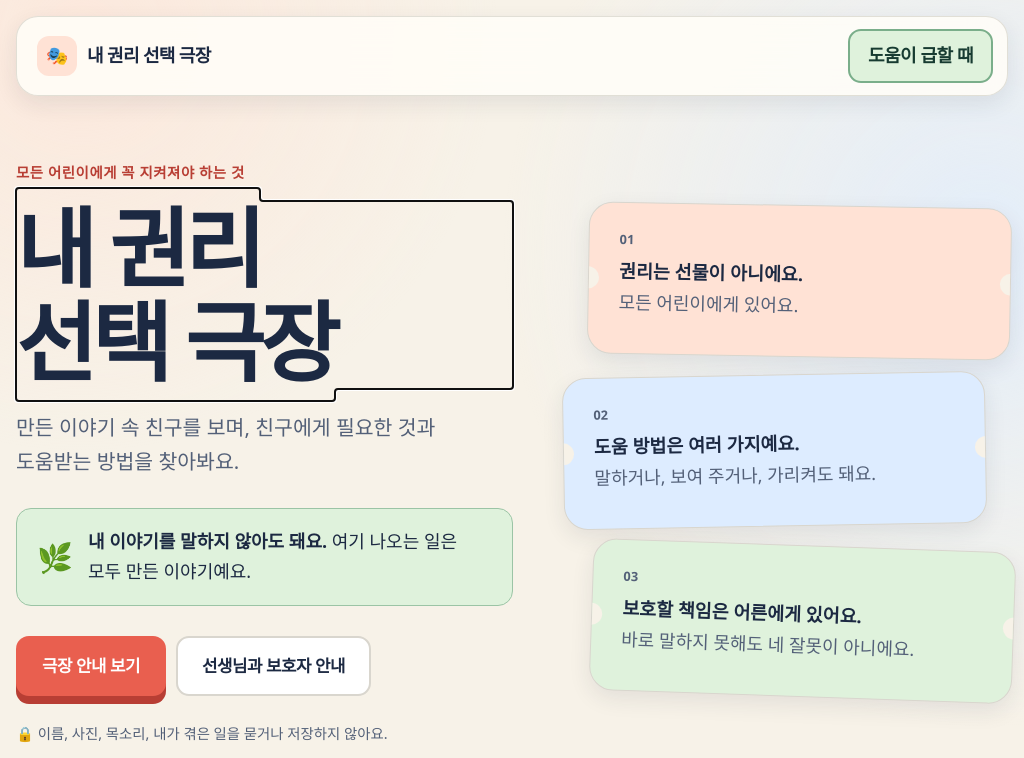
it: 내 권리 선택 극장 흐름 › 장면과 연결된 권리 카드 3개와 세부 진행 단계를 보여 준다
Click the button "극장 안내 보기": (91, 666) 16,636 -> 166,696
(page scrolled)
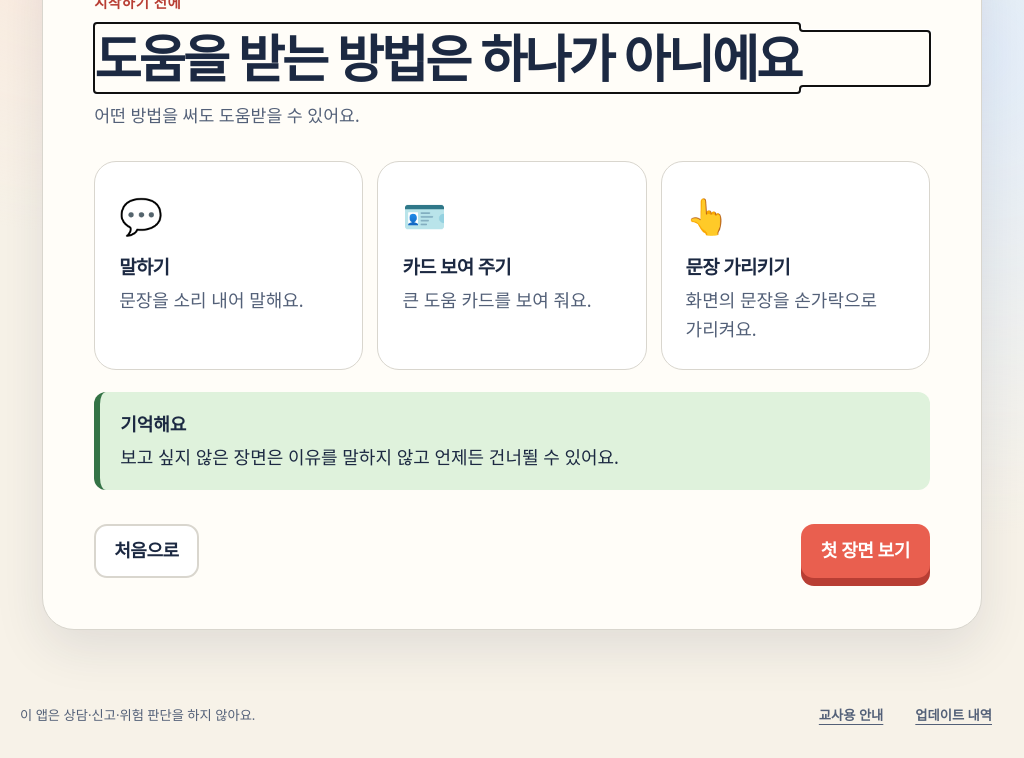
Click the button "첫 장면 보기": (865, 551) 801,524 -> 930,578
(page scrolled)
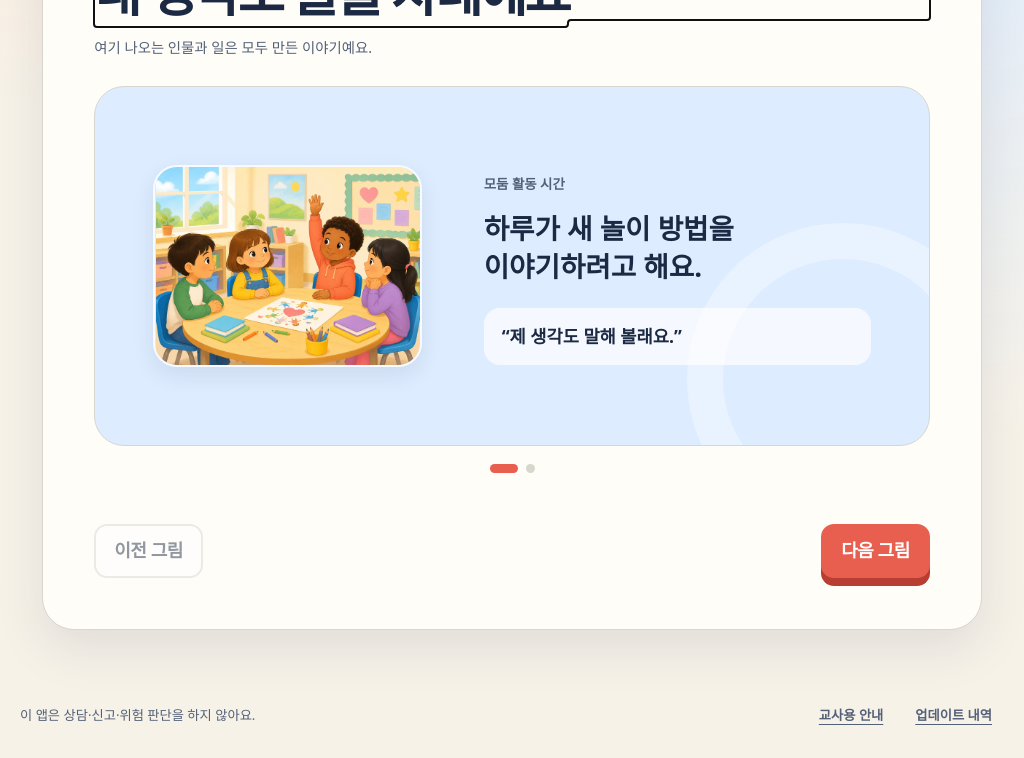
Click the button "다음 그림": (875, 551) 821,524 -> 930,578
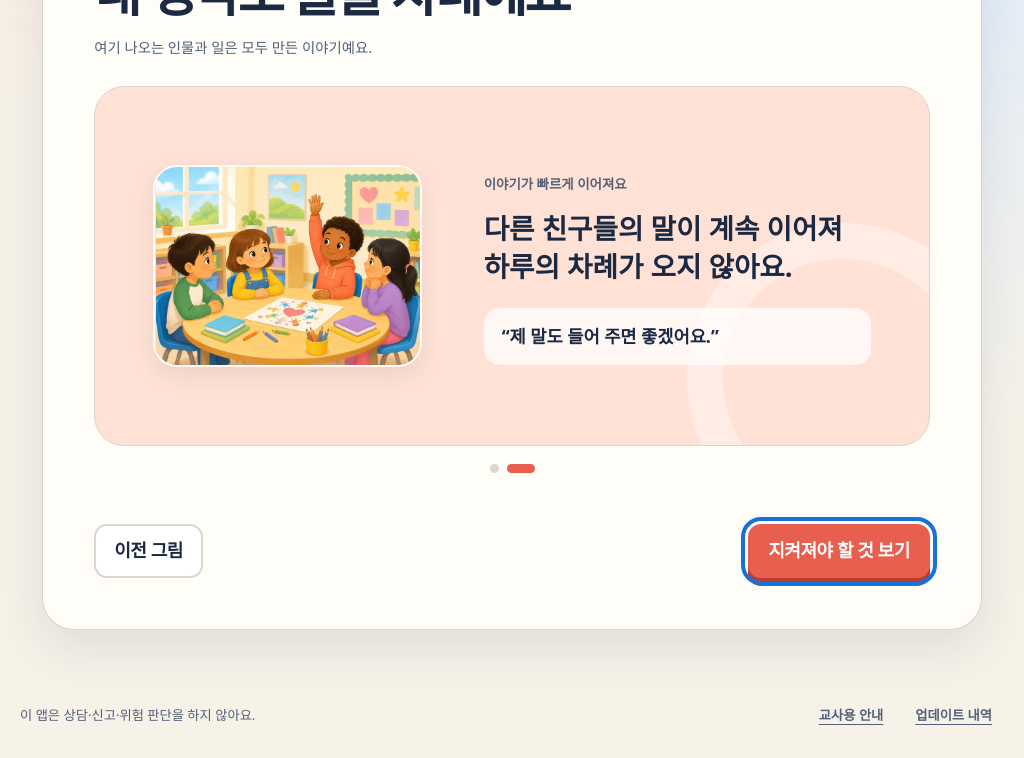
Click the button "지켜져야 할 것 보기": (839, 551) 748,524 -> 930,578
(page scrolled)
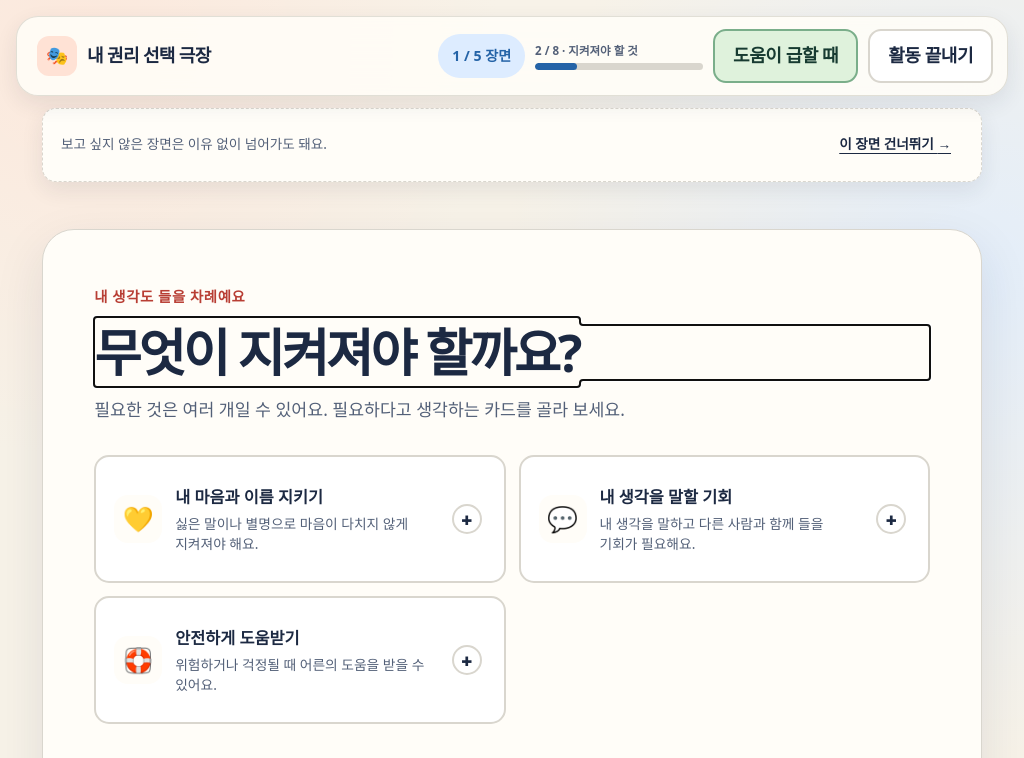
Check: the element named "현재 진행 1 / 5 장면, 2 / 8 단계 지켜져야 할 것" is shown, box 438,34 -> 703,78
Check: the button "💬 내 생각을 말할 기회 내 생각을 말하고 다른 사람과 함께 들을 기회가 필요해요. +" is shown, box 518,455 -> 930,583
Check: the button "💛 내 마음과 이름 지키기 싫은 말이나 별명으로 마음이 다치지 않게 지켜져야 해요. +" is shown, box 94,455 -> 506,583
